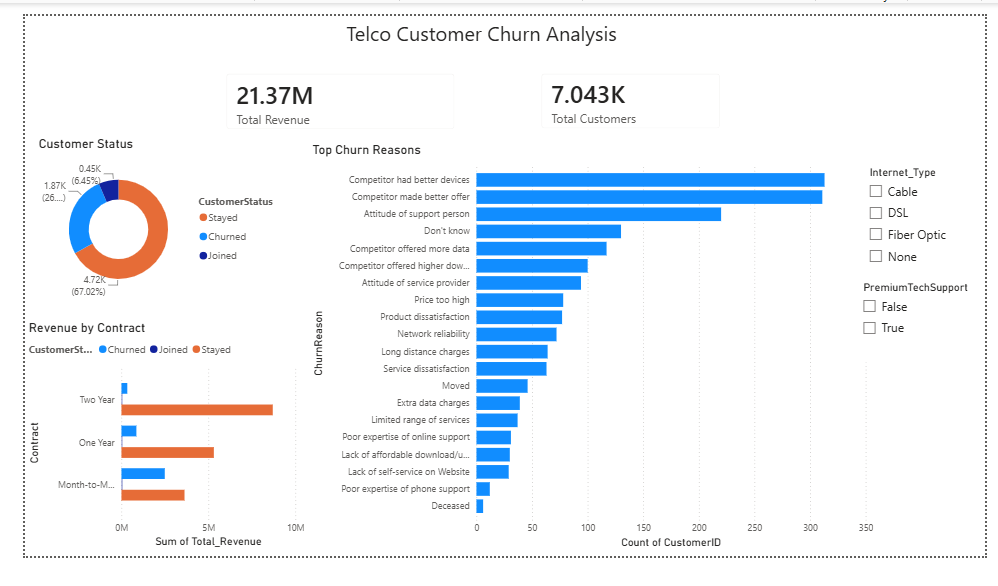

Layout of this report page (visuals, bound fields, positions):
{"tool":"powerbi","page":{"name":"Page 1","canvas":[1280,720],"ordinal":0},"visuals":[{"type":"donutChart","title":"Customer Status","fields":{"Category":["telco.CustomerStatus"],"Y":["CountNonNull(telco.CustomerStatus)"]},"box":[13.3,160,330,230],"z":0},{"type":"clusteredBarChart","title":"Revenue by Contract","fields":{"Category":["telco.Contract"],"Y":["Sum(telco.Total_Revenue)"],"Series":["telco.CustomerStatus"]},"box":[0,405.6,377.8,308.9],"z":1000},{"type":"textbox","box":[424,0,382,60],"z":2000},{"type":"cardVisual","fields":{"Data":["Count(telco.CustomerID)"]},"box":[671.1,60,272.2,107.8],"z":3000},{"type":"cardVisual","fields":{"Data":["Sum(telco.Total_Revenue)"]},"box":[251.7,60,338.3,108.3],"z":4000},{"type":"clusteredBarChart","title":"Top Churn Reasons","fields":{"Category":["telco.ChurnReason"],"Y":["CountNonNull(telco.CustomerID)"]},"box":[377.8,167.8,757.8,546.7],"z":5000},{"type":"slicer","fields":{"Values":["telco.Internet_Type"]},"box":[1113.3,194.4,166.7,154.4],"z":6000},{"type":"slicer","fields":{"Values":["telco.PremiumTechSupport"]},"box":[1104.4,348.9,175.6,113.3],"z":7000}]}

Visuals, with their boxes on the page's 1280x720 design canvas (x1, y1, x2, y2). These are canvas units, not pixel positions in the 998x586 screenshot, which may show the page scaled, cropped or inside an application window:
"Customer Status" donutChart: <bbox>13, 160, 343, 390</bbox>
"Revenue by Contract" clusteredBarChart: <bbox>0, 406, 378, 714</bbox>
textbox: <bbox>424, 0, 806, 60</bbox>
cardVisual - Count(telco.CustomerID): <bbox>671, 60, 943, 168</bbox>
cardVisual - Sum(telco.Total_Revenue): <bbox>252, 60, 590, 168</bbox>
"Top Churn Reasons" clusteredBarChart: <bbox>378, 168, 1136, 714</bbox>
slicer - telco.Internet_Type: <bbox>1113, 194, 1280, 349</bbox>
slicer - telco.PremiumTechSupport: <bbox>1104, 349, 1280, 462</bbox>
